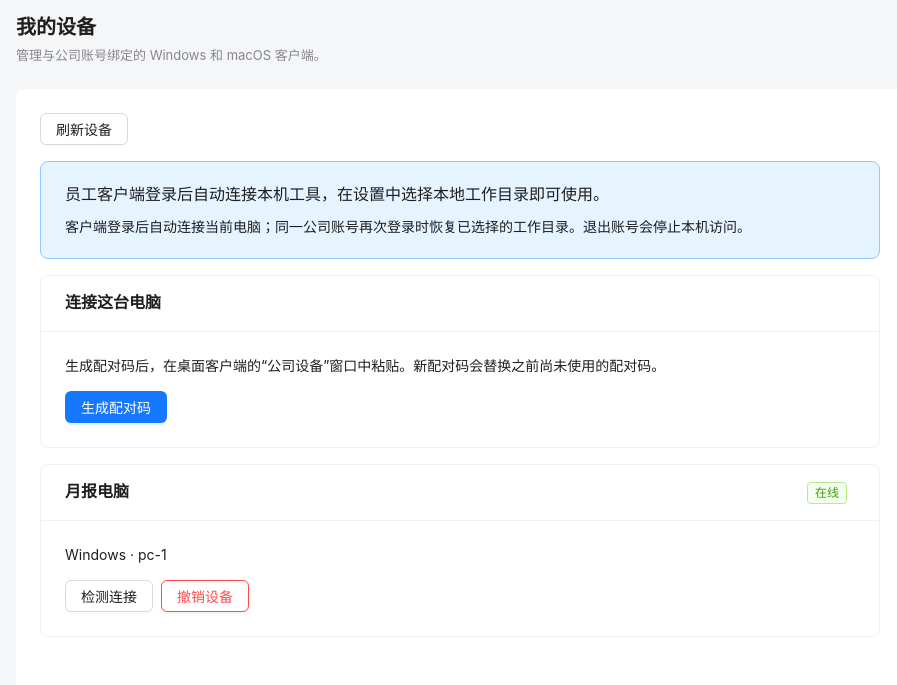
Scenario: company devices › reports a timeout without claiming cancellation succeeded
This screenshot has width=897, height=685.
Click the button "检测连接" at coordinates (109, 596), box left=65, top=580, right=153, bottom=612
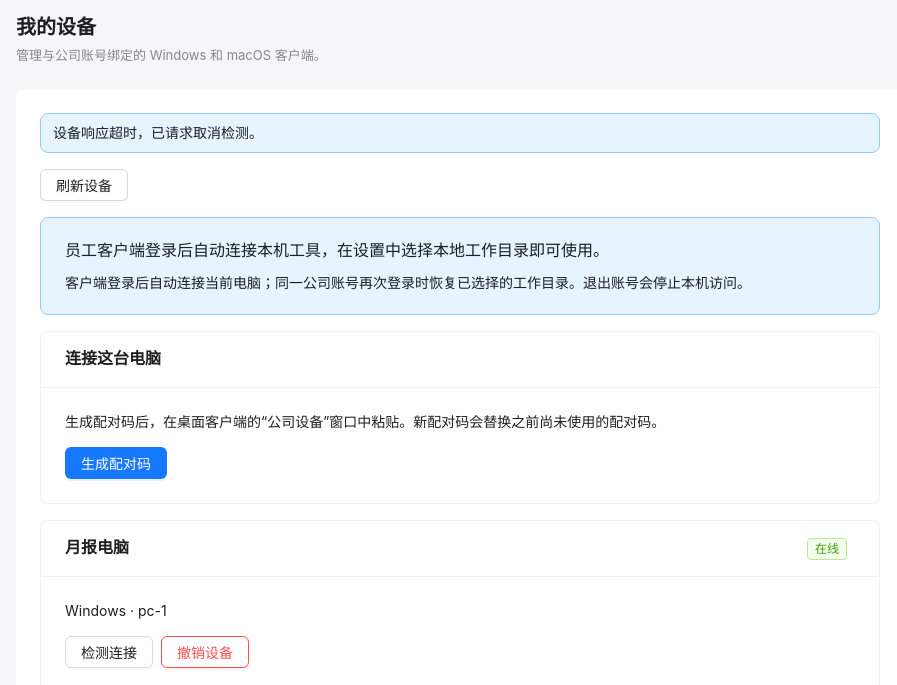
Expected: the text "设备响应超时，已请求取消检测。" is shown, left=53, top=124, right=263, bottom=141
